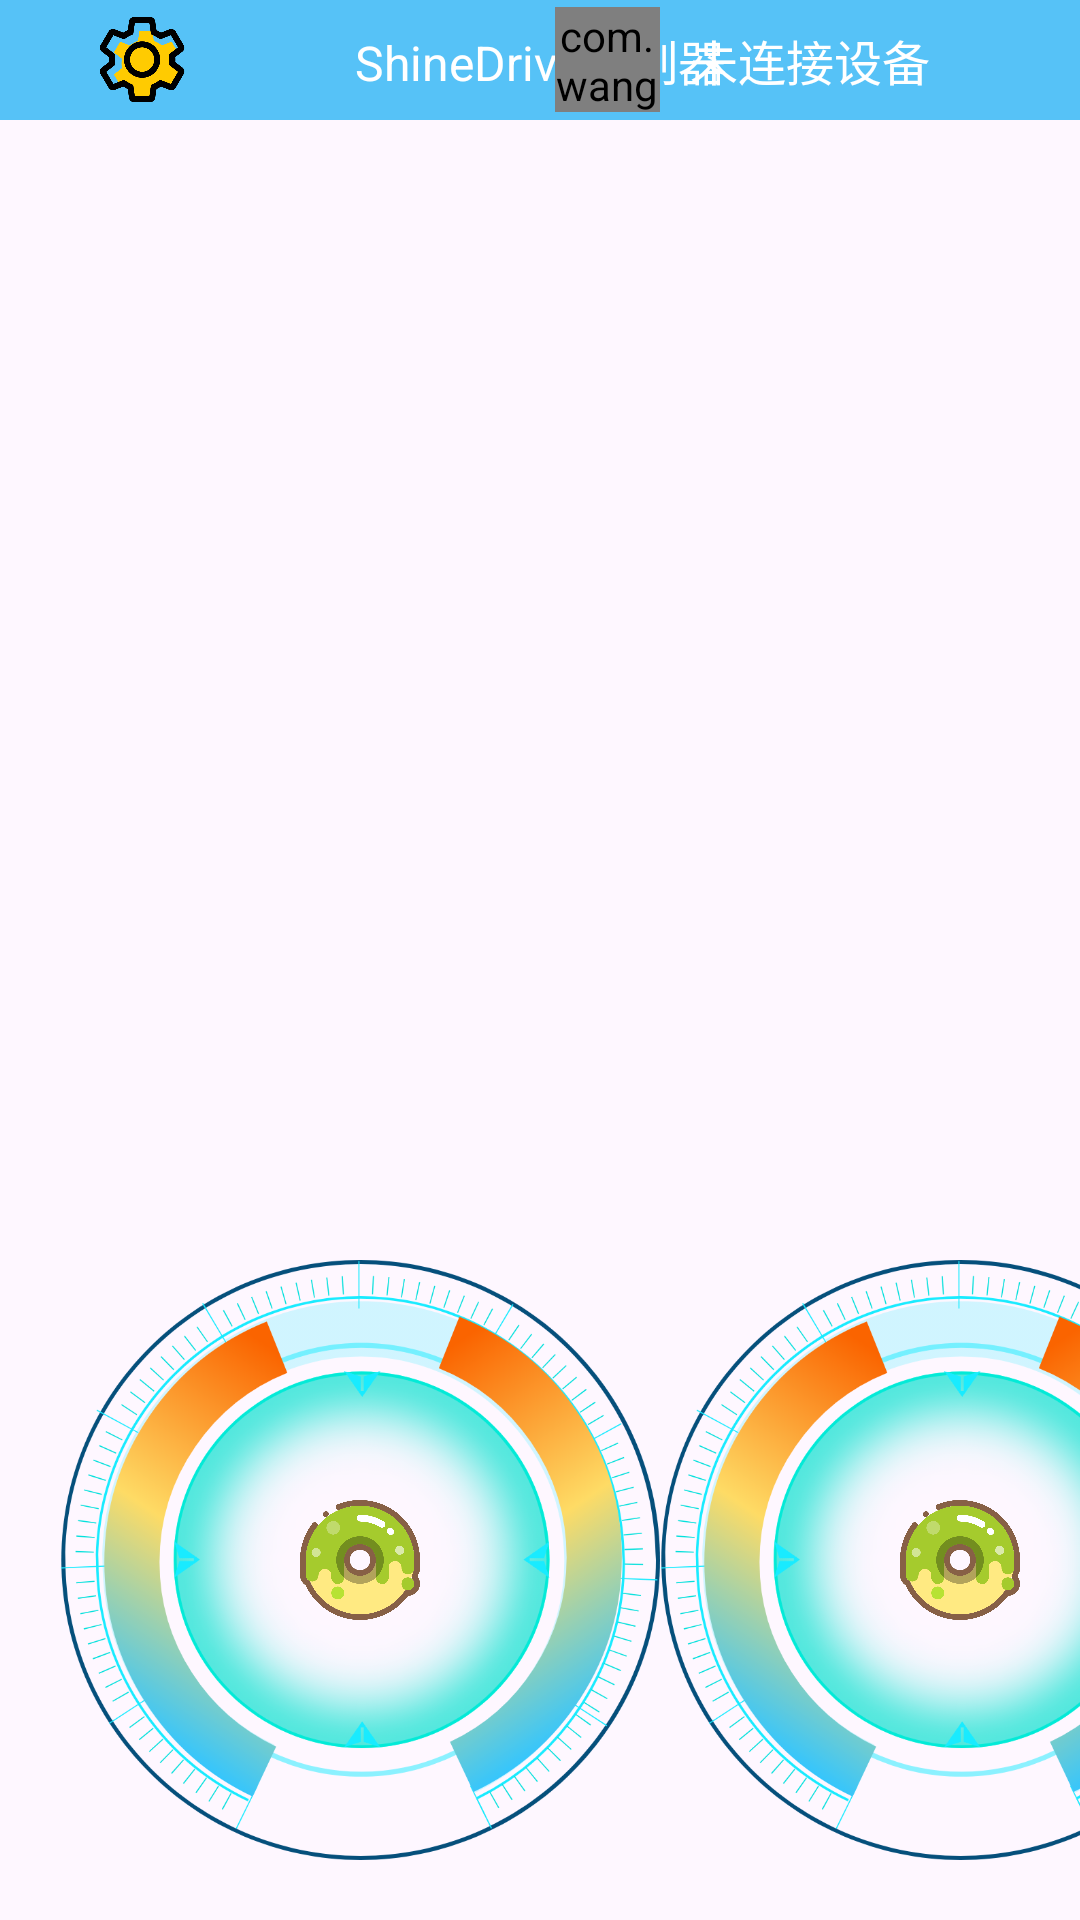

Named icons in this screenshot (1080 × 1920) and their centers, (x,y):
setting: (142,59)
